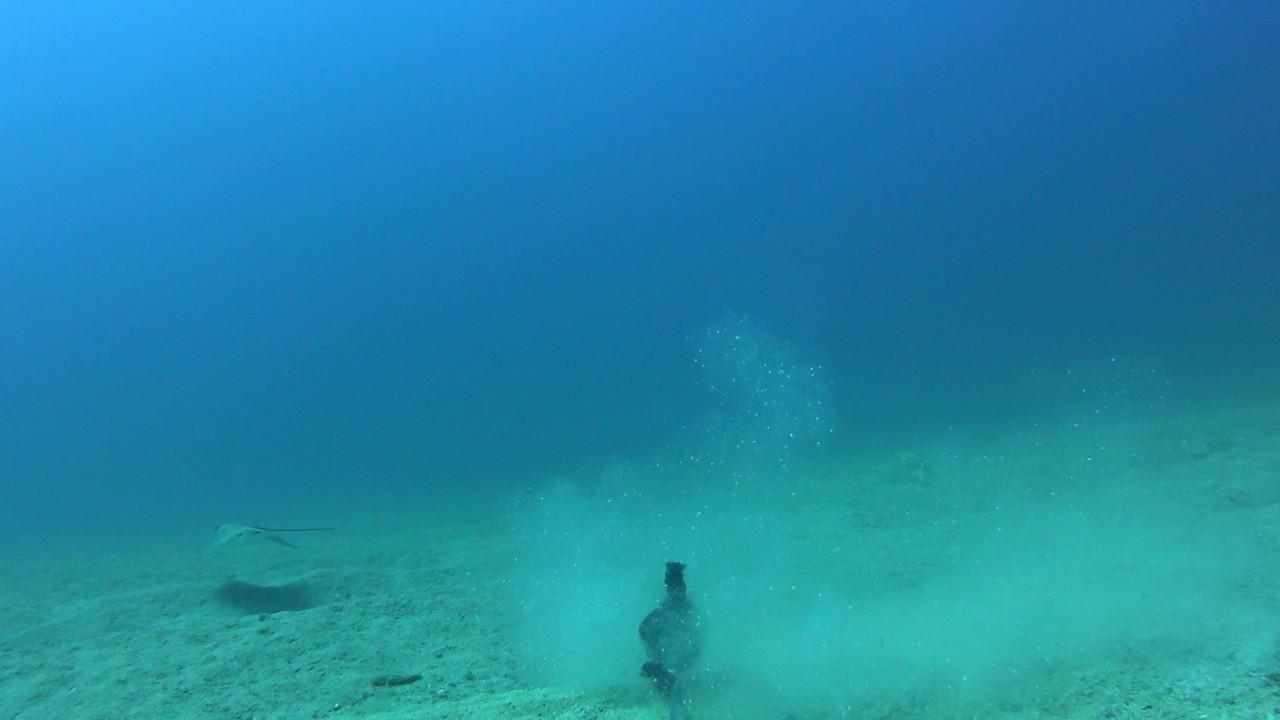myliobatis: (187, 501, 343, 558)
